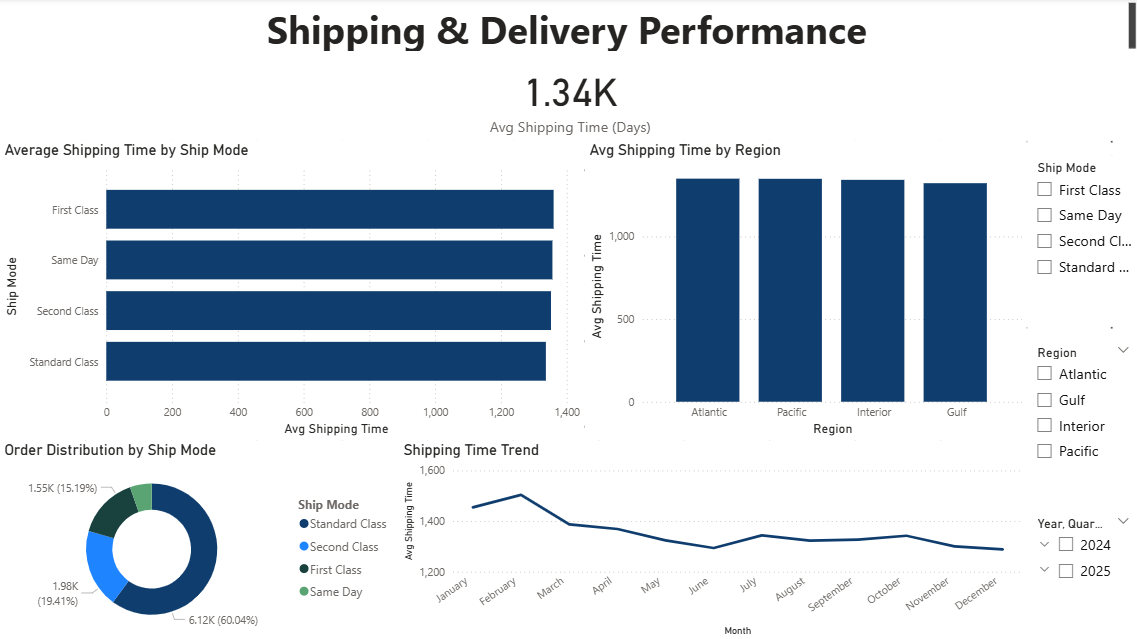

The dashboard page shown, as its layout file describes it:
{"tool":"powerbi","page":{"name":"Shipping & Delivery Analysis","canvas":[1280,720],"ordinal":2},"visuals":[{"type":"card","title":"Average Shipping Time (Days)","fields":{"Values":["Measures (3).Avg Shipping Time"]},"box":[0,64,1280,96],"z":0},{"type":"clusteredBarChart","title":"Average Shipping Time by Ship Mode","fields":{"Category":["cleaned_data.Ship Mode"],"Y":["Measures (3).Avg Shipping Time"]},"box":[0,160,656,336],"z":1},{"type":"donutChart","title":"Order Distribution by Ship Mode","fields":{"Category":["cleaned_data.Ship Mode"],"Y":["CountNonNull(cleaned_data.Order ID)"]},"box":[0,496,448,224],"z":2},{"type":"clusteredColumnChart","fields":{"Category":["cleaned_data.Region"],"Y":["Measures (3).Avg Shipping Time"]},"box":[656,160,496,336],"z":3},{"type":"slicer","fields":{"Values":["cleaned_data.Region"]},"box":[1152,384,128,192],"z":4},{"type":"slicer","fields":{"Values":["cleaned_data.Ship Mode"]},"box":[1152,176,128,192],"z":5},{"type":"slicer","fields":{"Values":["cleaned_data.Order Date.Variation.Date Hierarchy.Year","cleaned_data.Order Date.Variation.Date Hierarchy.Quarter","cleaned_data.Order Date.Variation.Date Hierarchy.Month","cleaned_data.Order Date.Variation.Date Hierarchy.Day"]},"box":[1152,576,128,144],"z":6},{"type":"textbox","box":[0,0,1280,64],"z":7},{"type":"lineChart","title":"Shipping Time Trend","fields":{"Y":["Measures (3).Avg Shipping Time"],"Category":["cleaned_data.Order Date.Variation.Date Hierarchy.Month"]},"box":[448,496,704,224],"z":8}]}

Visuals, with their boxes in screenshot pixels (x1, y1, x2, y2), scaled from the page's 1280x720 canvas onto the 1137x639 screenshot:
"Average Shipping Time (Days)" card: <box>0,57,1136,142</box>
"Average Shipping Time by Ship Mode" clusteredBarChart: <box>0,142,583,440</box>
"Order Distribution by Ship Mode" donutChart: <box>0,440,398,638</box>
clusteredColumnChart - cleaned_data.Region x Measures (3).Avg Shipping Time: <box>583,142,1023,440</box>
slicer - cleaned_data.Region: <box>1023,341,1136,511</box>
slicer - cleaned_data.Ship Mode: <box>1023,156,1136,327</box>
slicer - cleaned_data.Order Date.Variation.Date Hierarchy.Year x cleaned_data.Order Date.Variation.Date Hierarchy.Quarter: <box>1023,511,1136,638</box>
textbox: <box>0,0,1136,57</box>
"Shipping Time Trend" lineChart: <box>398,440,1023,638</box>
